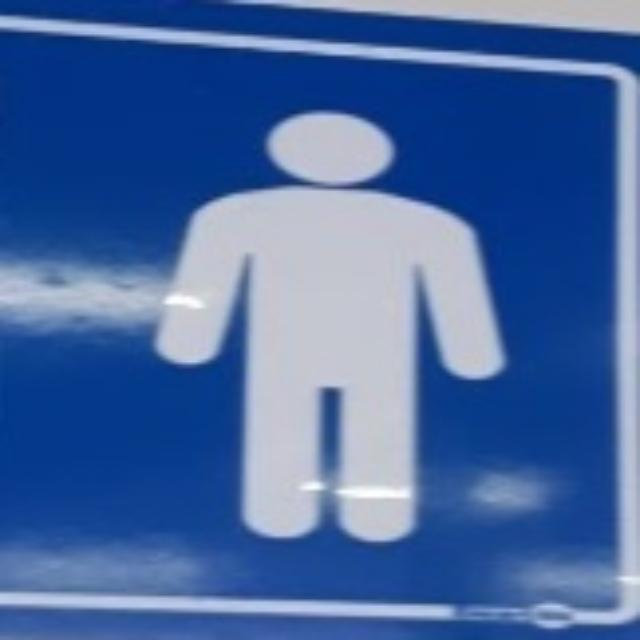wc nam: (0, 0, 636, 636)
